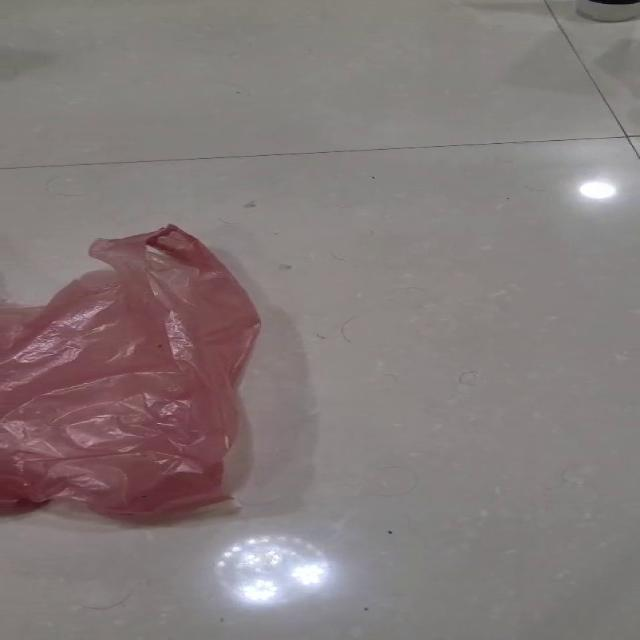plastic: (0, 222, 262, 518)
